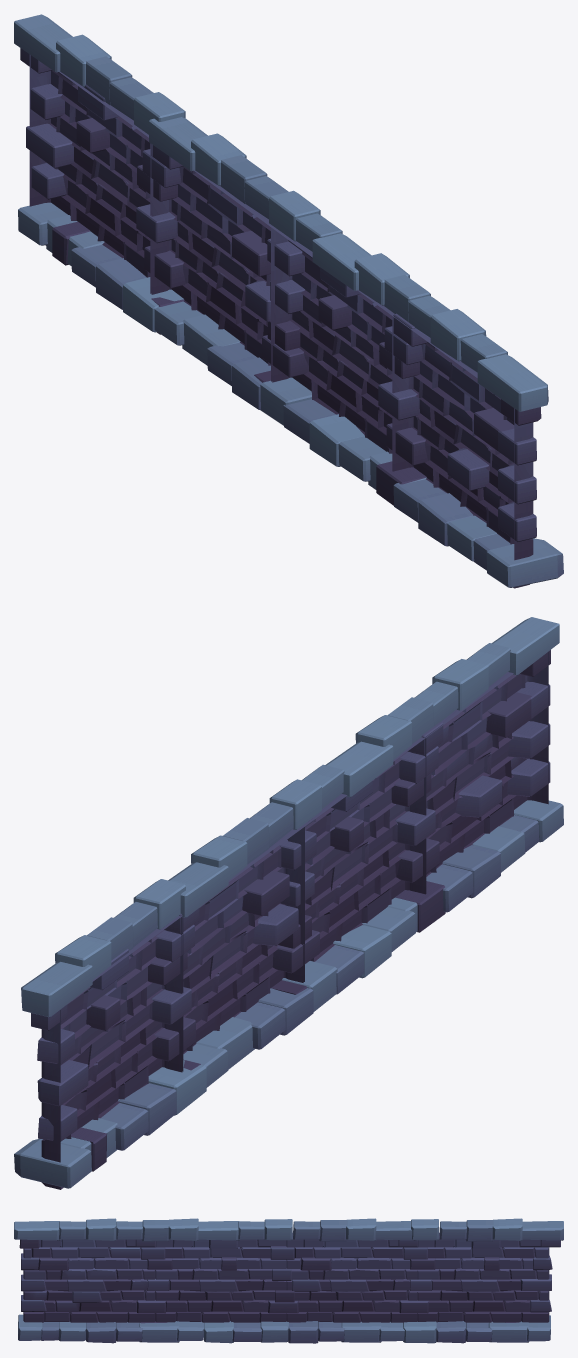
File: Wall4w.fbx
3 views of the same model, one above another, from view 1: azimuth 30°, elevation 25°; view 2: azimuth 150°, elevation 25°; view 3: azimuth 270°, elevation 25° (orthographic). The views are drawn at different scales.
Parts seen in each view (by area): view 1: pCube250; view 2: pCube250; view 3: pCube250.
Part boxes in pixels (<box>): pCube250: <box>14,14,563,588</box>; pCube250: <box>14,617,563,1189</box>; pCube250: <box>14,1218,563,1343</box>.
Bounding box in the file's own units: 1.51 × 5.29 × 22.86.
